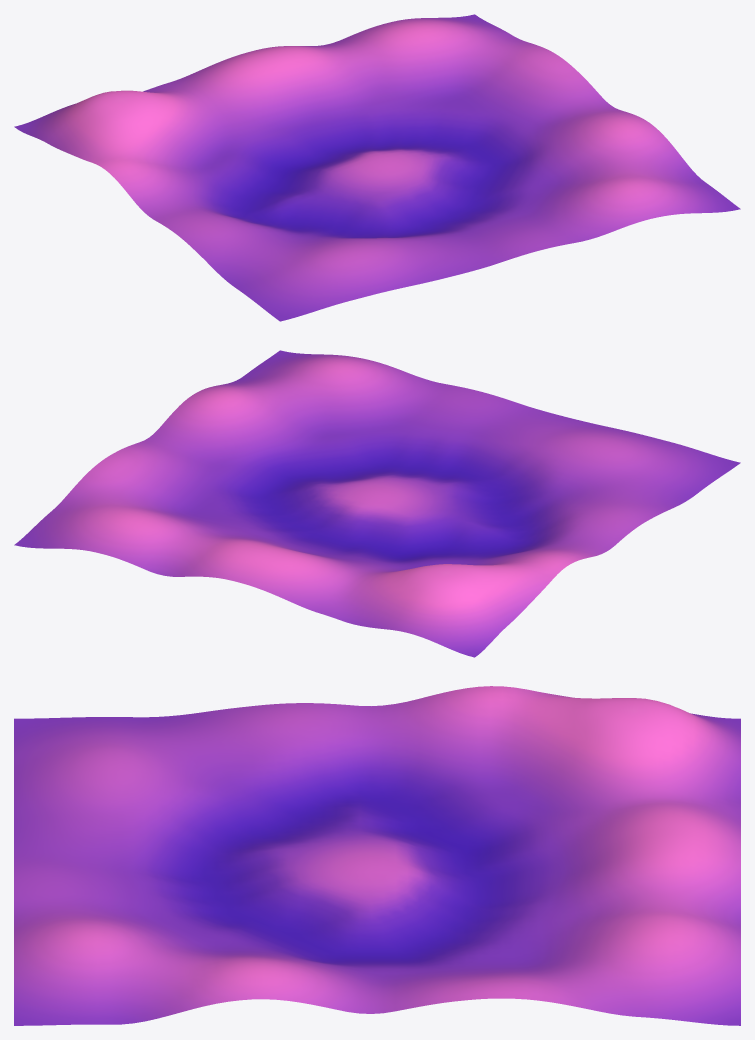
Rendered from anp_ground_1.fbx.
The picture shows the model from 3 angles, top to bottom: view 1: azimuth 30°, elevation 25°; view 2: azimuth 150°, elevation 25°; view 3: azimuth 270°, elevation 25°; orthographic projection. The views are drawn at different scales.
Parts seen in each view (by area): view 1: ground2; view 2: ground2; view 3: ground2.
Part boxes in pixels (box(x1,y1,x2,y2)): ground2: box(14, 14, 740, 321); ground2: box(14, 350, 740, 657); ground2: box(14, 686, 740, 1025).
Size of the model in its own units: 12545 by 1340 by 12545.
